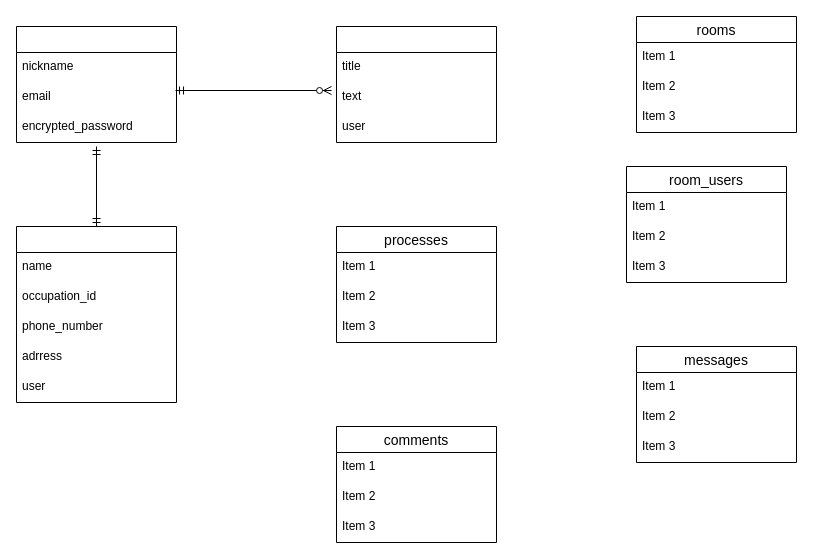
Some shapes in this 813 by 559 pixel diagram are drawn without their labels. Each missing label, with the box of its shape:
notices: (336, 26, 496, 142)
organizations: (16, 226, 176, 402)
users: (16, 26, 176, 142)
